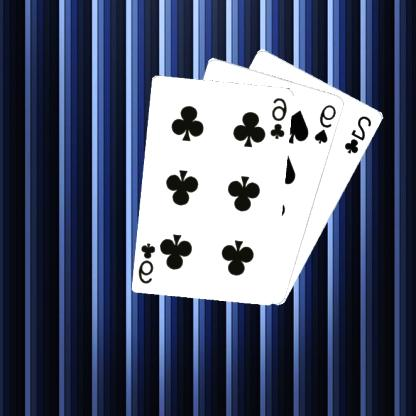2C: (344, 113, 375, 155)
6C: (138, 240, 159, 284), (270, 94, 290, 140)
9S: (314, 102, 340, 145)
